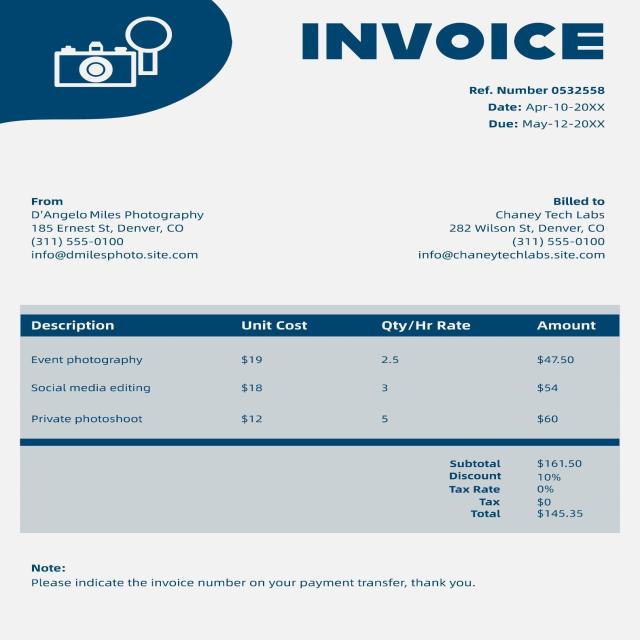paragraph: (416, 186, 614, 262), (296, 19, 612, 65), (26, 563, 480, 591), (30, 195, 216, 260), (442, 453, 605, 527), (466, 81, 613, 132)
table: (20, 315, 620, 437)
